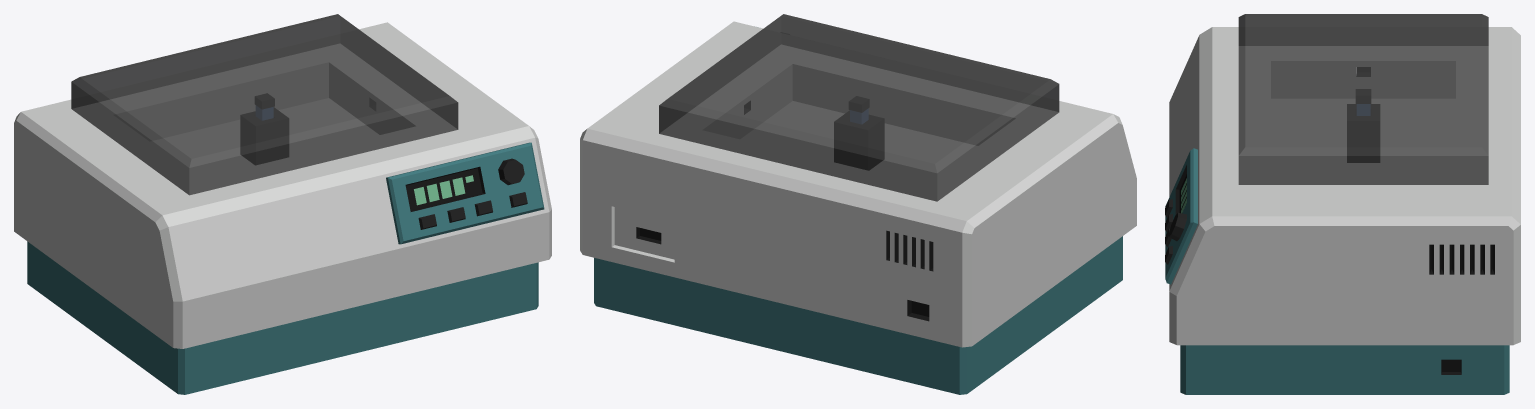
Rendered from spectrophotometer-f79c78.glb.
The picture shows the model from 3 angles, left to right: view 1: azimuth 30°, elevation 25°; view 2: azimuth 150°, elevation 25°; view 3: azimuth 270°, elevation 25°; orthographic projection. The views are drawn at different scales.
Visible parts, largest first — view 1: spectrophotometer, lid; view 2: spectrophotometer, lid, cuvette; view 3: spectrophotometer, lid, cuvette.
Boxes of the visible parts, <box> form: spectrophotometer: <box>14,22,551,394</box>; lid: <box>71,14,458,195</box>; spectrophotometer: <box>580,21,1136,394</box>; lid: <box>659,14,1059,201</box>; cuvette: <box>849,96,869,123</box>; spectrophotometer: <box>1165,27,1520,394</box>; lid: <box>1238,14,1488,184</box>; cuvette: <box>1356,89,1370,115</box>.
Size of the model in its own units: 0.5 by 0.268 by 0.3846.
